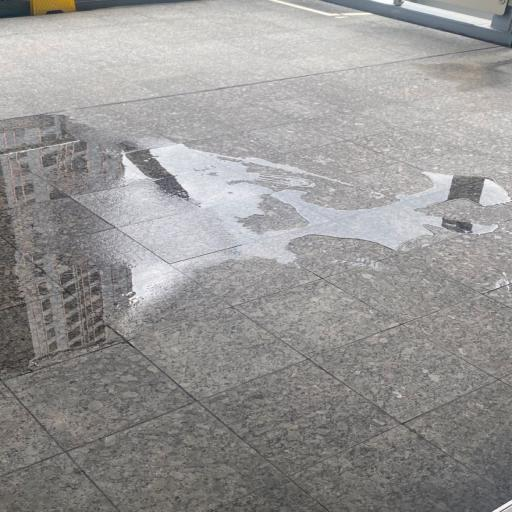wet_floor: (0, 99, 512, 387)
